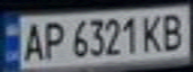1: (121, 14, 142, 54)
2: (103, 15, 124, 56)
3: (87, 16, 109, 57)
6: (66, 17, 90, 59)
A: (18, 19, 48, 62)
B: (157, 10, 190, 52)
K: (139, 11, 169, 53)
P: (39, 18, 69, 61)
